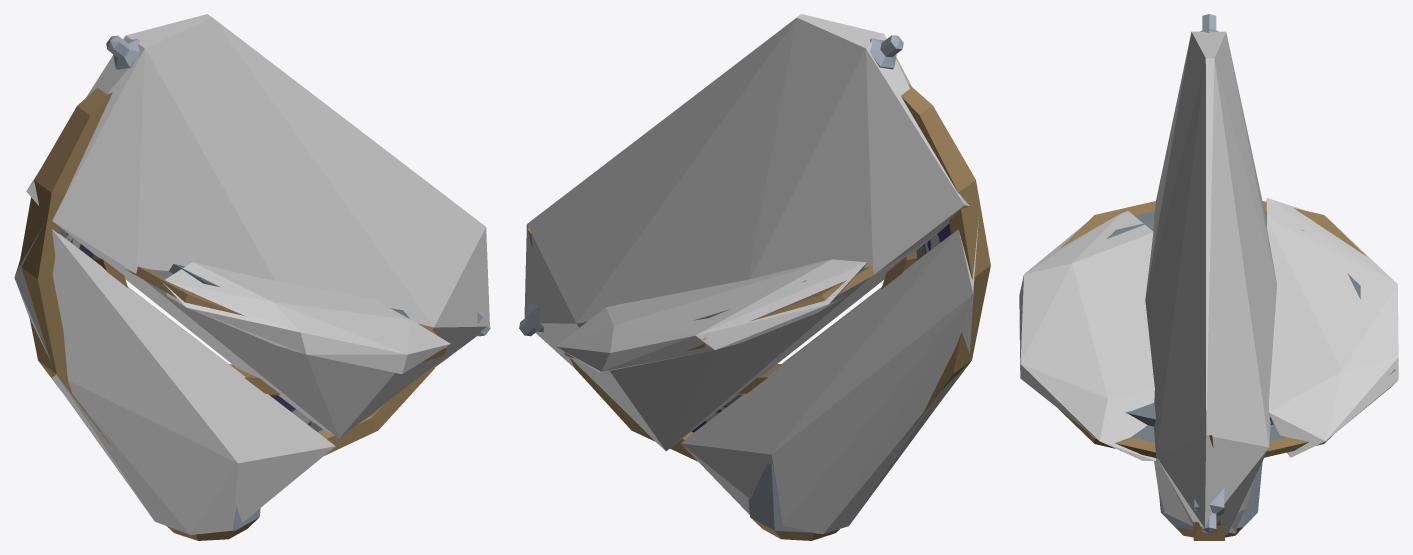
File: SM_Prop_Sun_Dial_01_Moonplate_01.fbx
3 renders of one model, left to right at view 1: azimuth 30°, elevation 25°; view 2: azimuth 150°, elevation 25°; view 3: azimuth 270°, elevation 25°, orthographic. The views are drawn at different scales.
Visible parts, largest first — view 1: SM_Prop_Sun_Dial_01_Moonplate_01_ConvexHulls, SM_Prop_Sun_Dial_01_Moonplate_01; view 2: SM_Prop_Sun_Dial_01_Moonplate_01_ConvexHulls, SM_Prop_Sun_Dial_01_Moonplate_01; view 3: SM_Prop_Sun_Dial_01_Moonplate_01_ConvexHulls, SM_Prop_Sun_Dial_01_Moonplate_01.
Part boxes in pixels (x1=…): SM_Prop_Sun_Dial_01_Moonplate_01_ConvexHulls: x1=14, y1=14, x2=489, y2=534; SM_Prop_Sun_Dial_01_Moonplate_01: x1=19, y1=35, x2=490, y2=540; SM_Prop_Sun_Dial_01_Moonplate_01_ConvexHulls: x1=524, y1=14, x2=979, y2=533; SM_Prop_Sun_Dial_01_Moonplate_01: x1=519, y1=35, x2=990, y2=540; SM_Prop_Sun_Dial_01_Moonplate_01_ConvexHulls: x1=1019, y1=31, x2=1398, y2=534; SM_Prop_Sun_Dial_01_Moonplate_01: x1=1059, y1=14, x2=1395, y2=540.
Bounding box in the file's own units: 82.14 × 63.32 × 86.52.
Materials: 2 (1 with a texture image).
